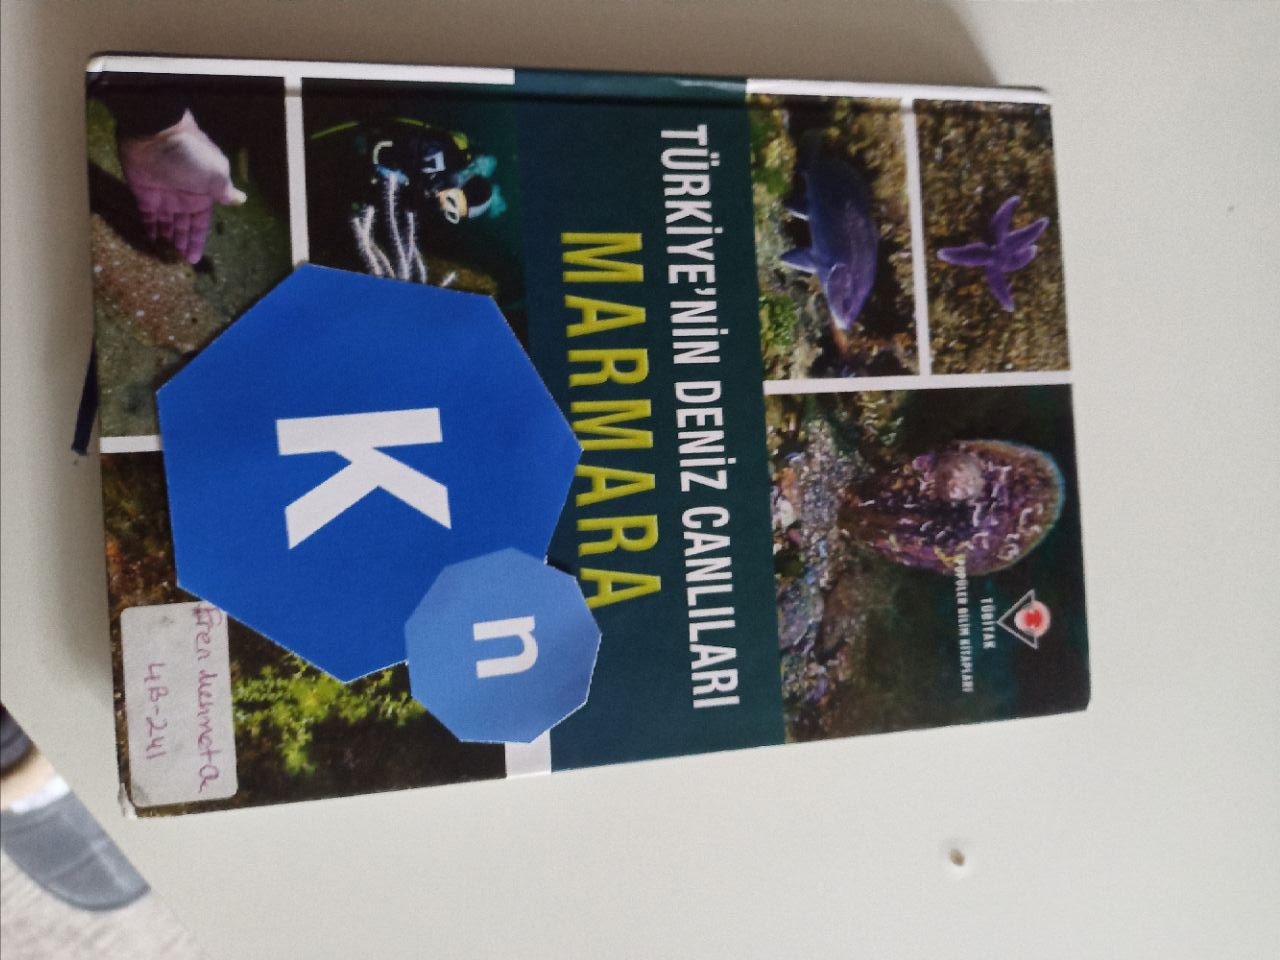knative: (152, 264, 600, 745)
